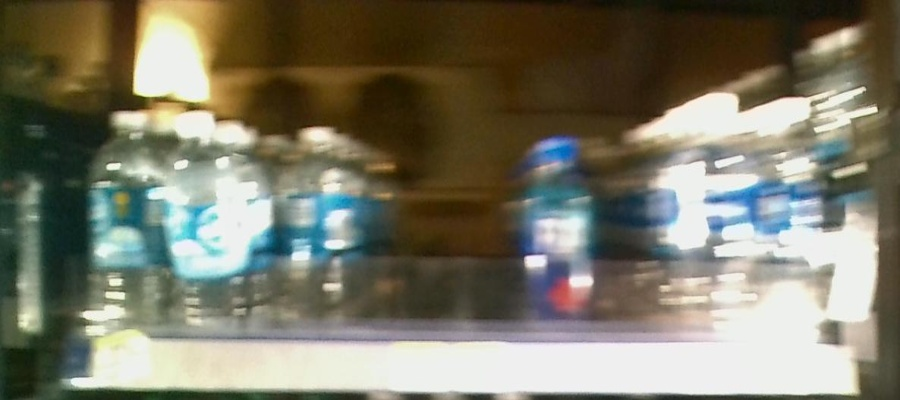bottle: (161, 104, 238, 333), (691, 87, 756, 340), (85, 112, 158, 335), (276, 121, 335, 338), (523, 134, 590, 324)
